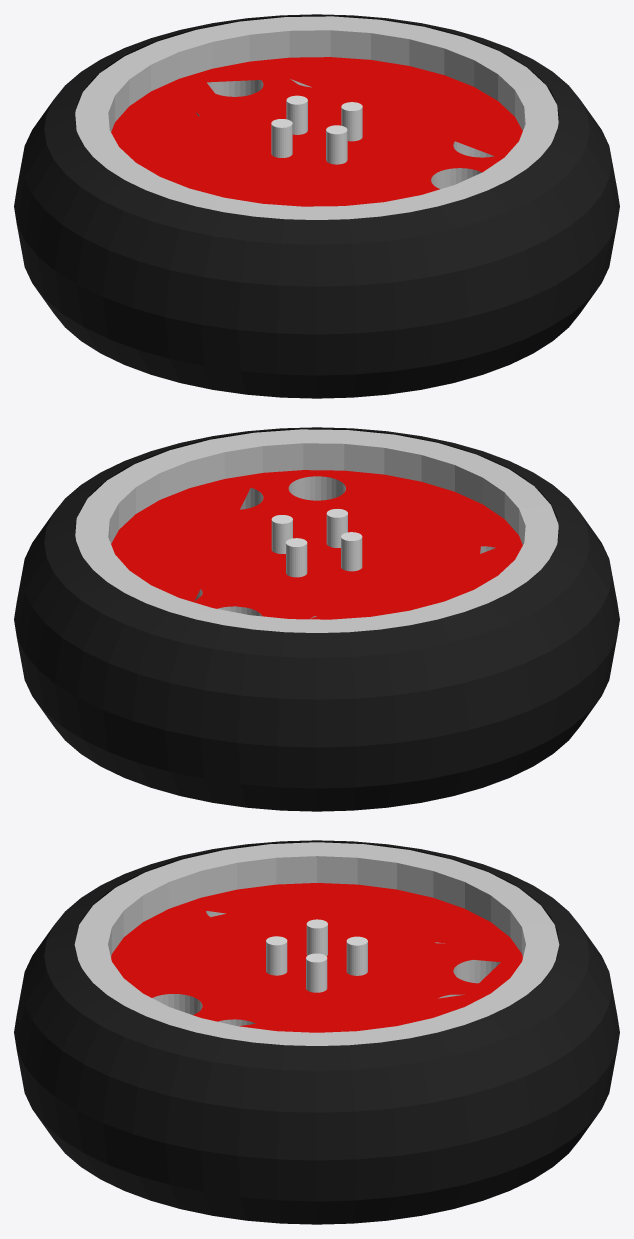
Rendered from Wheel.fbx.
The picture shows the model from 3 angles, top to bottom: view 1: azimuth 30°, elevation 25°; view 2: azimuth 150°, elevation 25°; view 3: azimuth 270°, elevation 25°; orthographic projection.
Visible parts, largest first — view 1: Torus.001, Cylinder, Cylinder.001; view 2: Torus.001, Cylinder, Cylinder.001; view 3: Torus.001, Cylinder, Cylinder.001.
Part boxes in pixels (<box>): Torus.001: <box>14,14,619,398</box>; Cylinder: <box>75,16,558,219</box>; Cylinder.001: <box>271,95,362,164</box>; Torus.001: <box>14,427,619,811</box>; Cylinder: <box>75,429,558,632</box>; Cylinder.001: <box>271,509,362,577</box>; Torus.001: <box>14,840,619,1224</box>; Cylinder: <box>74,842,559,1045</box>; Cylinder.001: <box>266,919,367,992</box>.
Size of the model in its own units: 250 by 82.07 by 250.
